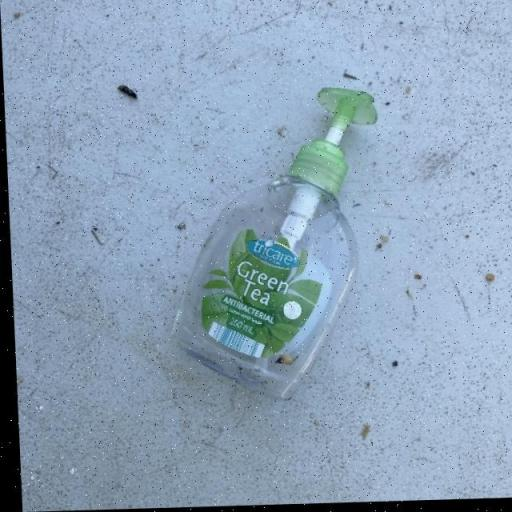plastic: (160, 86, 386, 405)
